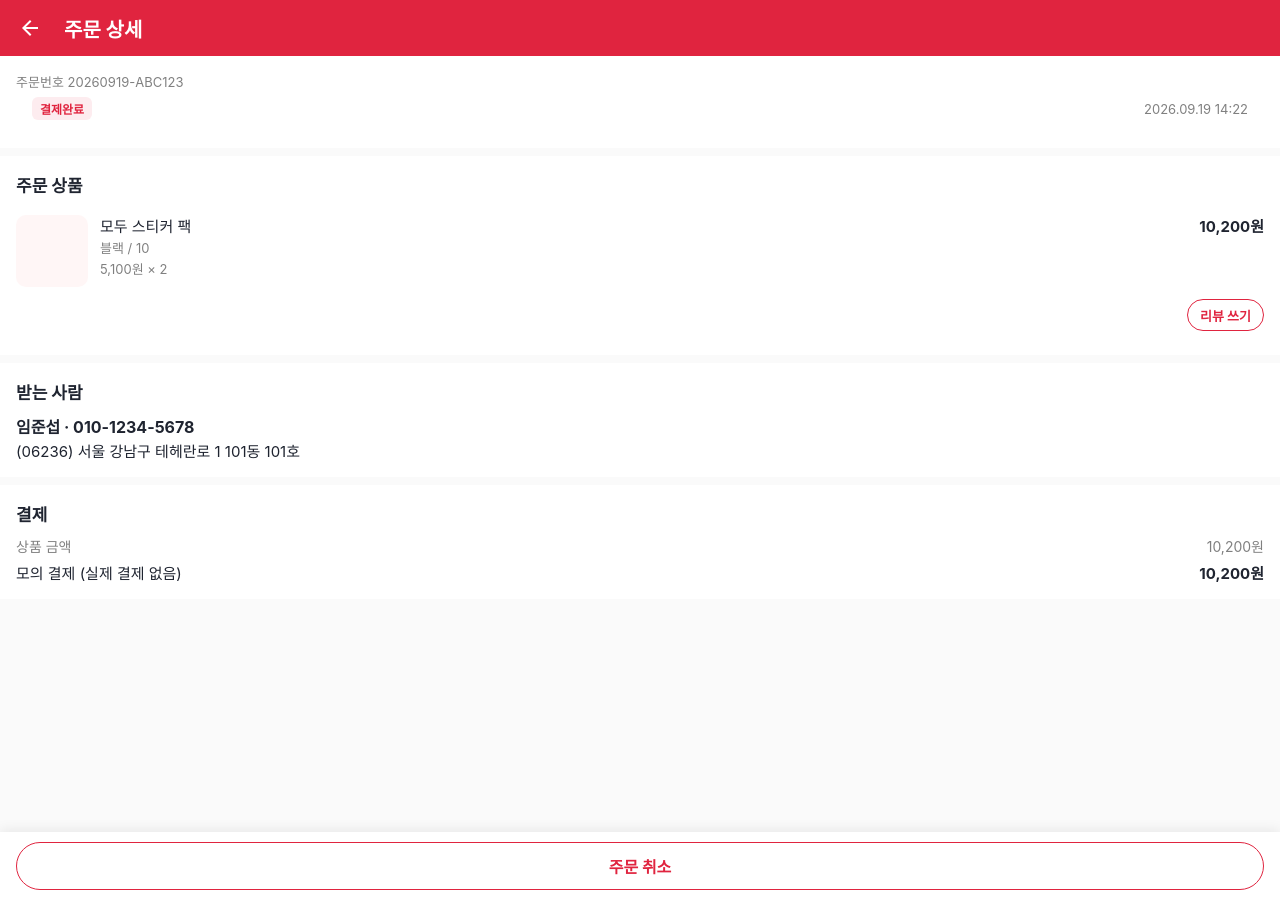
Test: OrderDetailPage › shows the order and cancels it after confirmation
Check: the text "주문번호 20260919-ABC123" is shown, box 16,74 -> 183,90
Check: the text "결제완료" is shown, box 32,97 -> 92,120
Click the button "주문 취소". click: (640, 866)
box: 16,842 -> 1264,890
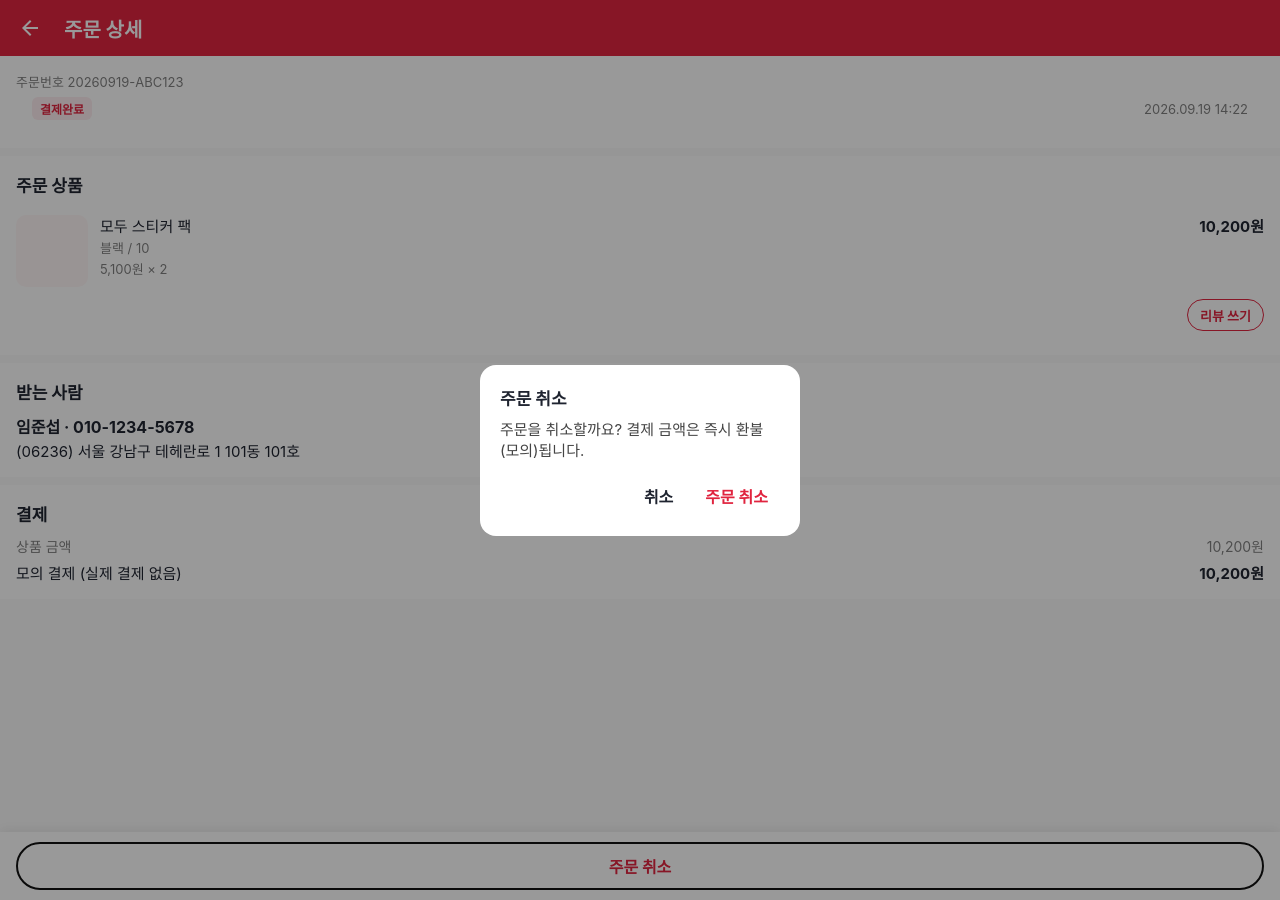
Click the button "주문 취소". click: (737, 496)
box: 693,476 -> 780,516
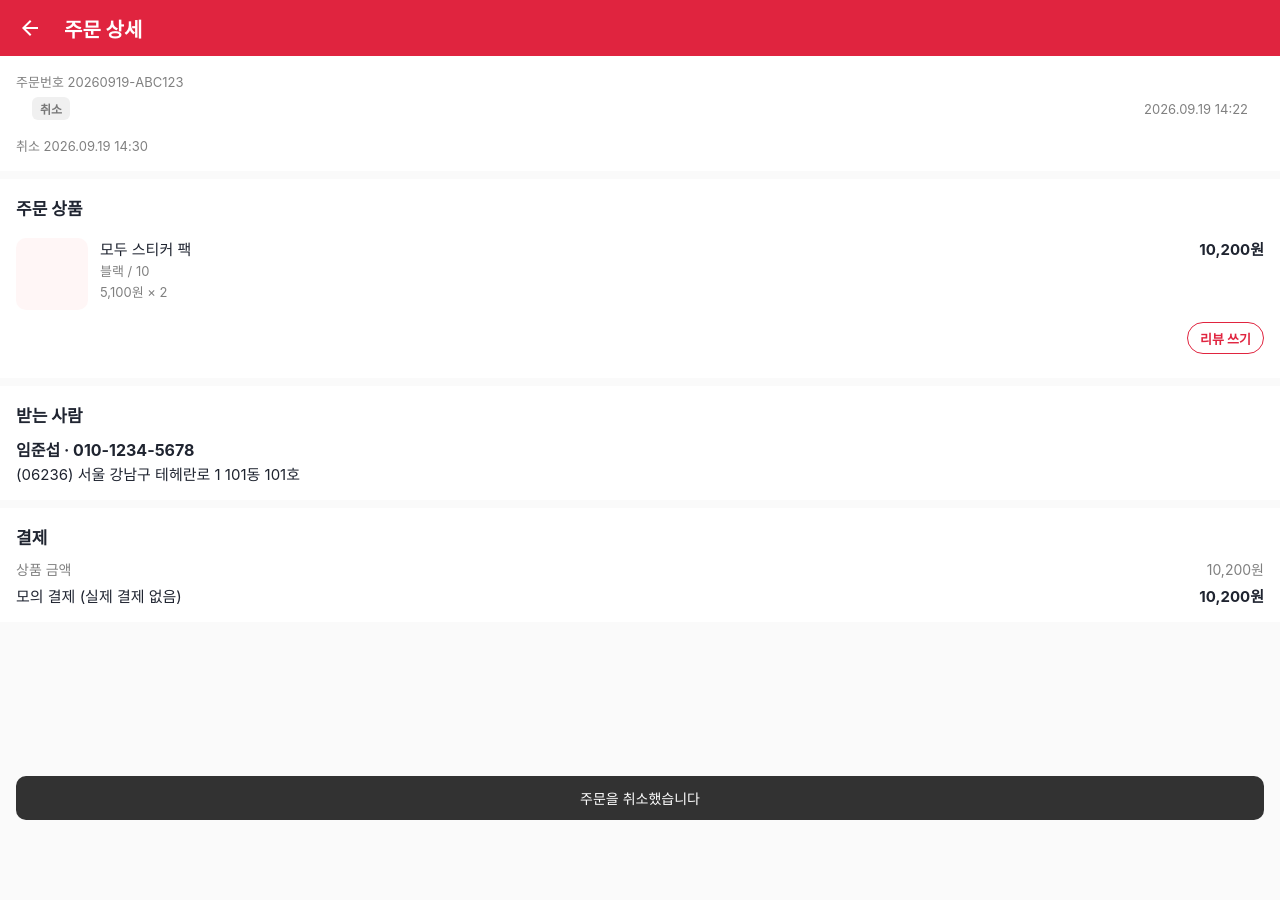
Check: the text "취소 2026.09.19 14:30" is shown, box 16,138 -> 148,154
Check: the button "주문 취소" is gone
